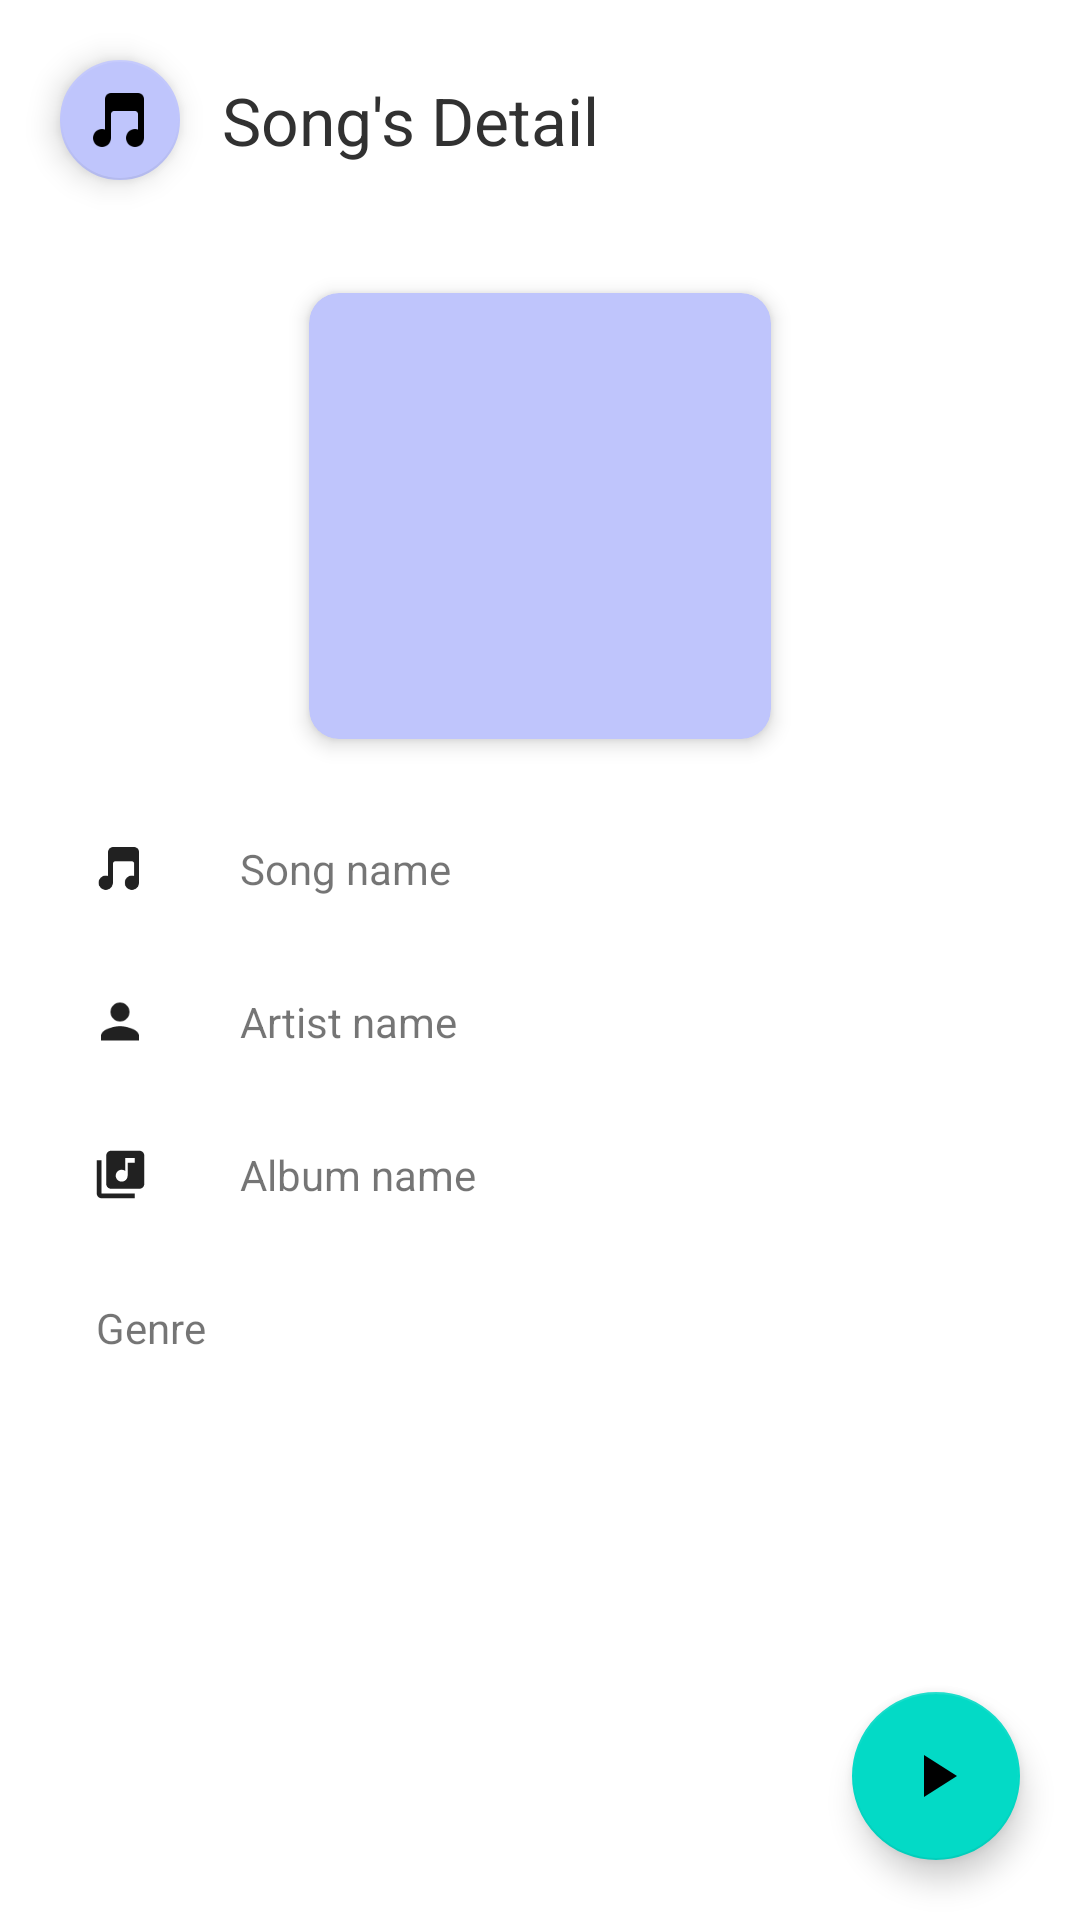

Screen size 1080px x 1920px. Icon name, then its center in pixels as (x=x, y=y):
library music: (x=120, y=1174)
music note: (x=119, y=120), (x=118, y=868)
personn: (x=120, y=1021)
play arrow: (x=936, y=1776)
